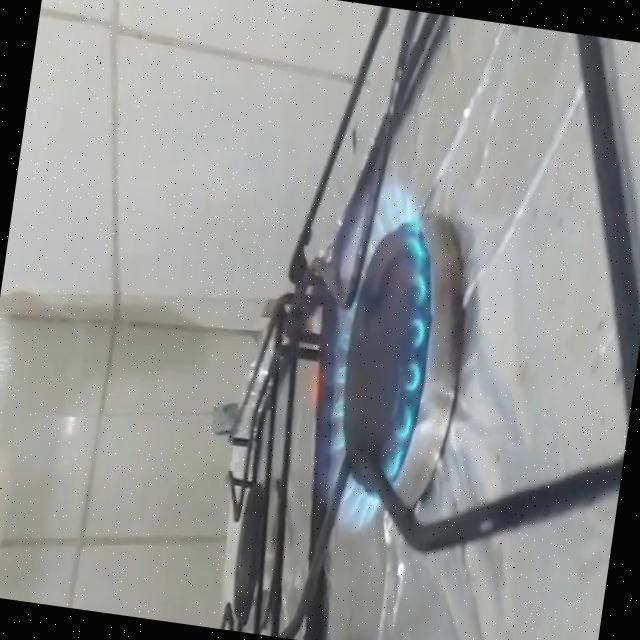fire: (281, 162, 455, 547)
